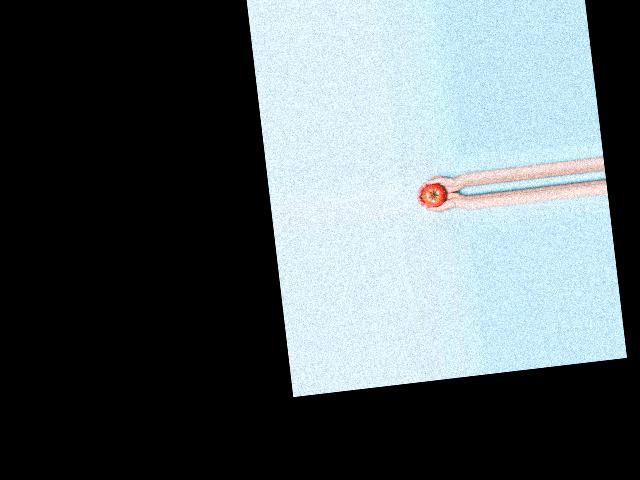tomato: (421, 181, 447, 207)
